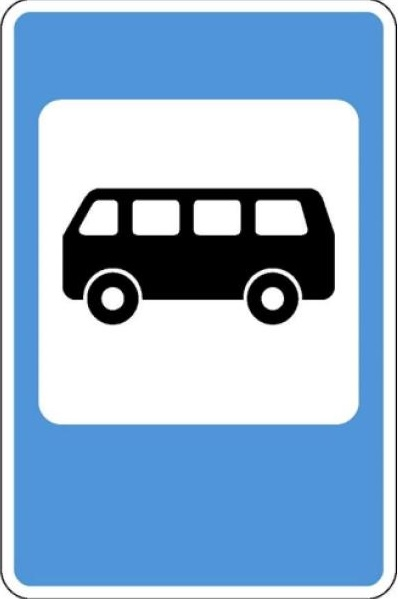bus_stop: (70, 2, 318, 565)
